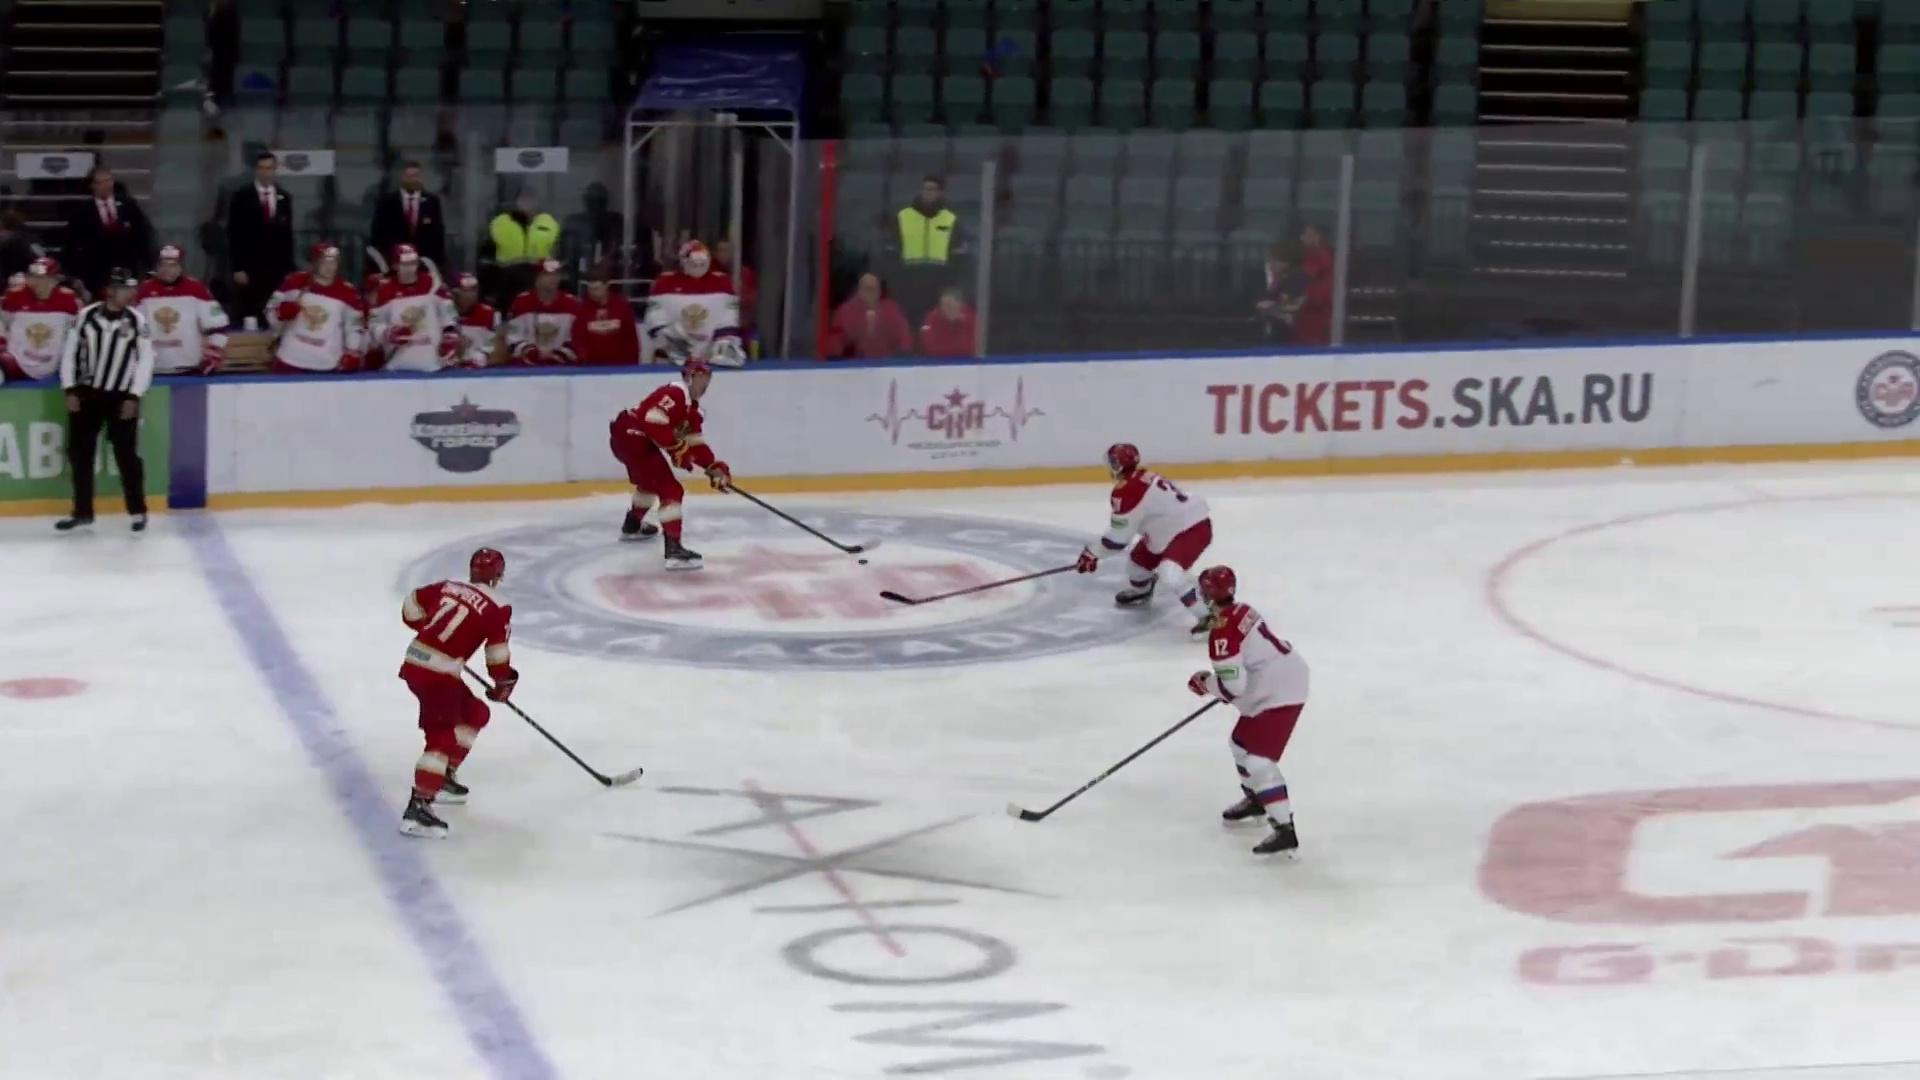ball: (855, 558, 870, 566)
